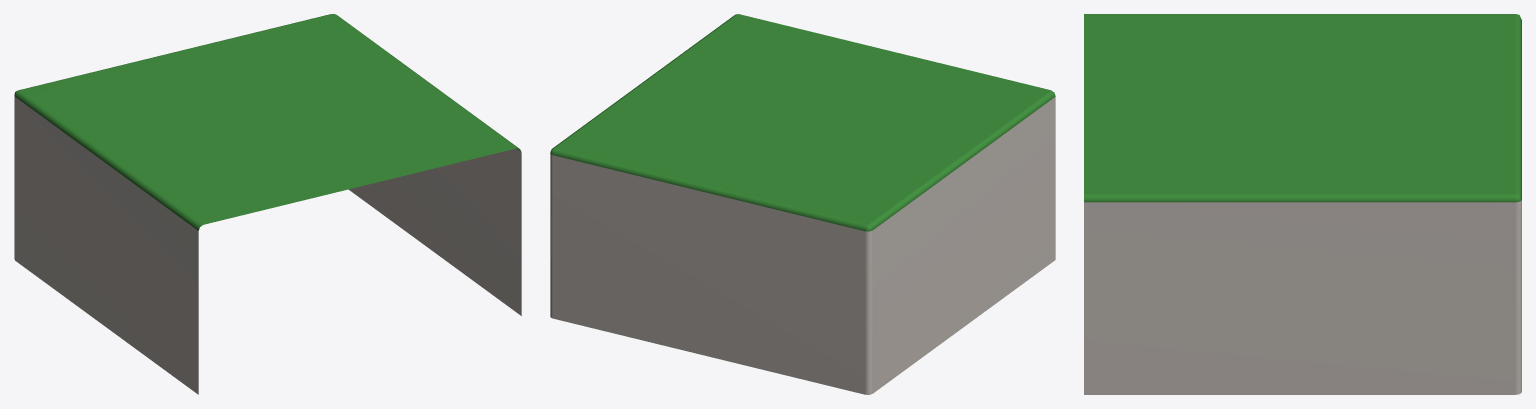
The model's file is cliff_3sided.fbx.
3 renders of one model, left to right at view 1: azimuth 30°, elevation 25°; view 2: azimuth 150°, elevation 25°; view 3: azimuth 270°, elevation 25°, orthographic. The views are drawn at different scales.
Parts seen in each view (by area): view 1: Cliff_03; view 2: Cliff_03; view 3: Cliff_03.
Part boxes in pixels (x1,y1,x2,y2): Cliff_03: (14,14,521,394); Cliff_03: (550,14,1055,394); Cliff_03: (1084,14,1521,394).
Size of the model in its own units: 200 by 100 by 200.
